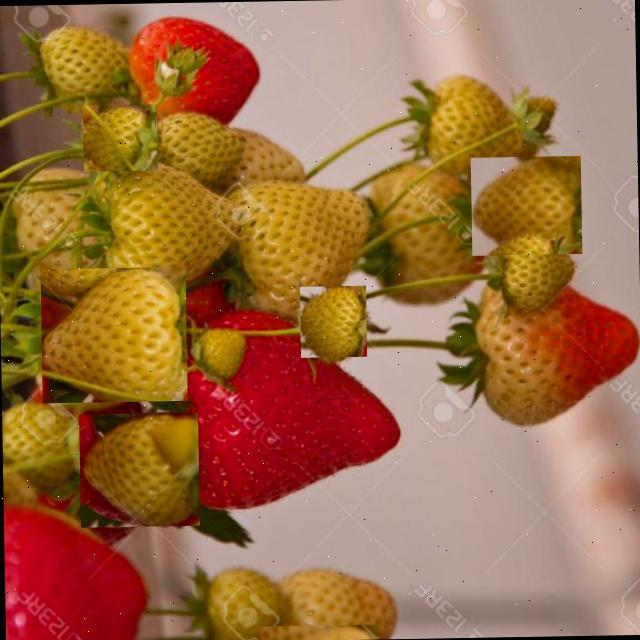ripe: (173, 304, 401, 508)
unripe: (469, 275, 640, 423), (40, 266, 187, 403), (228, 180, 368, 312), (100, 158, 236, 292), (126, 12, 260, 126), (78, 412, 200, 527), (470, 156, 582, 255), (420, 72, 530, 172), (278, 562, 396, 640), (39, 23, 130, 111), (198, 565, 285, 640), (495, 231, 574, 310), (82, 105, 158, 172), (300, 286, 367, 358), (192, 326, 246, 377), (257, 624, 378, 640)
